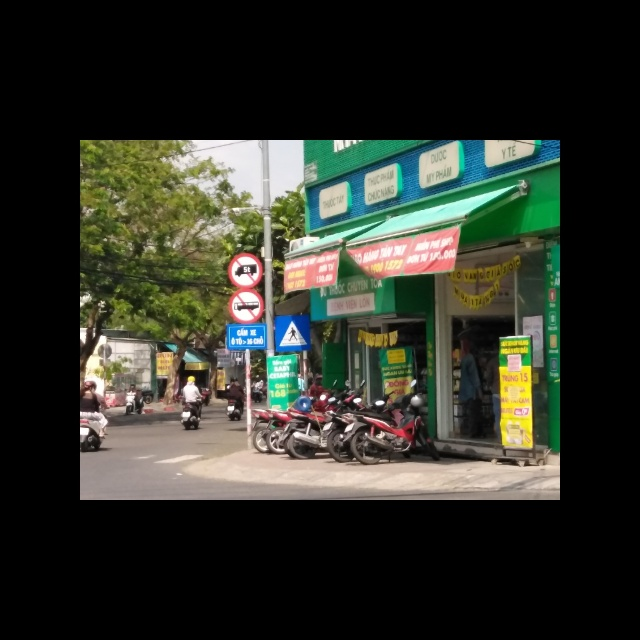Cấm xe tải: (227, 253, 264, 289)
Cấm xe xe khách: (229, 290, 265, 327)
Đường dành cho người đi bộ: (274, 316, 311, 353)
